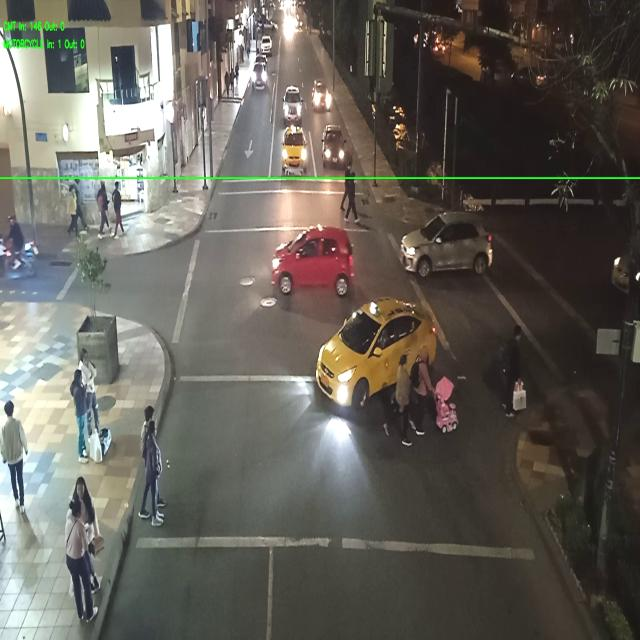MOTORCYCLE: (0, 240, 39, 280)
SED: (320, 301, 417, 404), (274, 230, 348, 288), (284, 127, 304, 177)
SUV: (284, 90, 302, 122)
